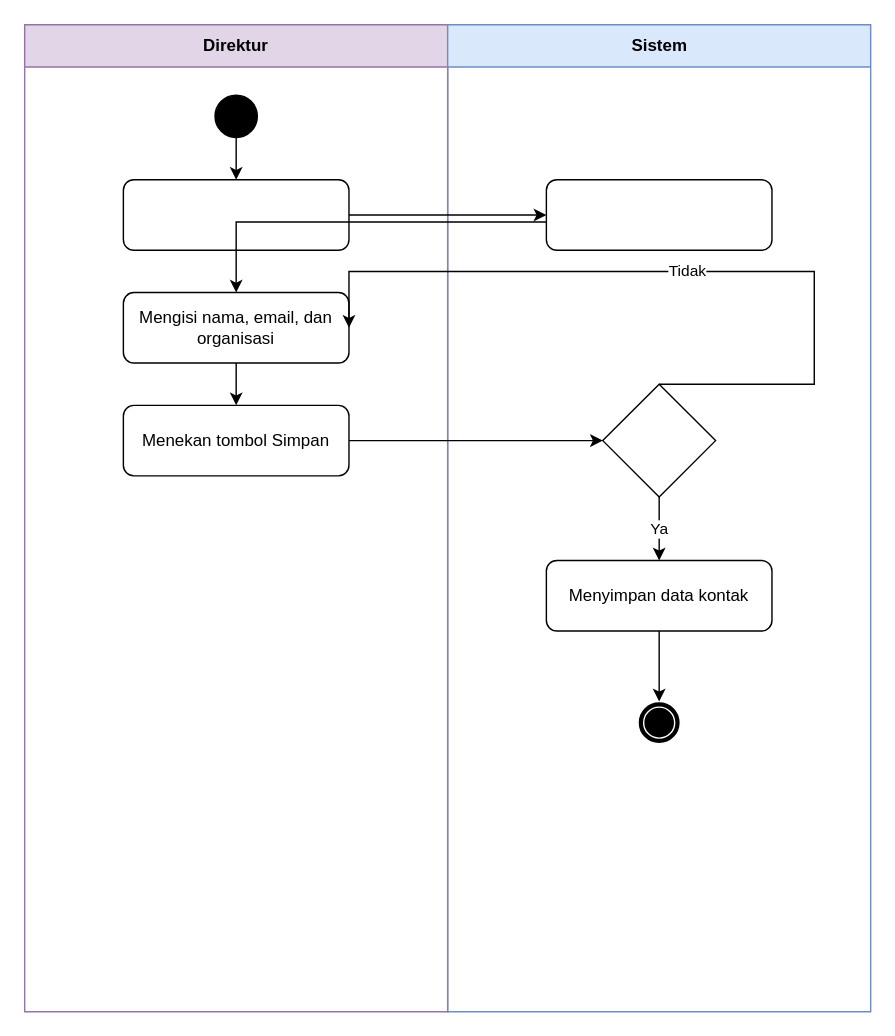
Some shapes in this 895 by 1036 pixel diagram are drawn without their labels. Here are the shapes that lost their labels. From the top down, the centre of each, then its label:
At (235,214): "Menekan tombol Tambah Kontak Individu".
At (658,214): "Menampilkan formulir kontak".
At (658,440): "Data Valid?".
